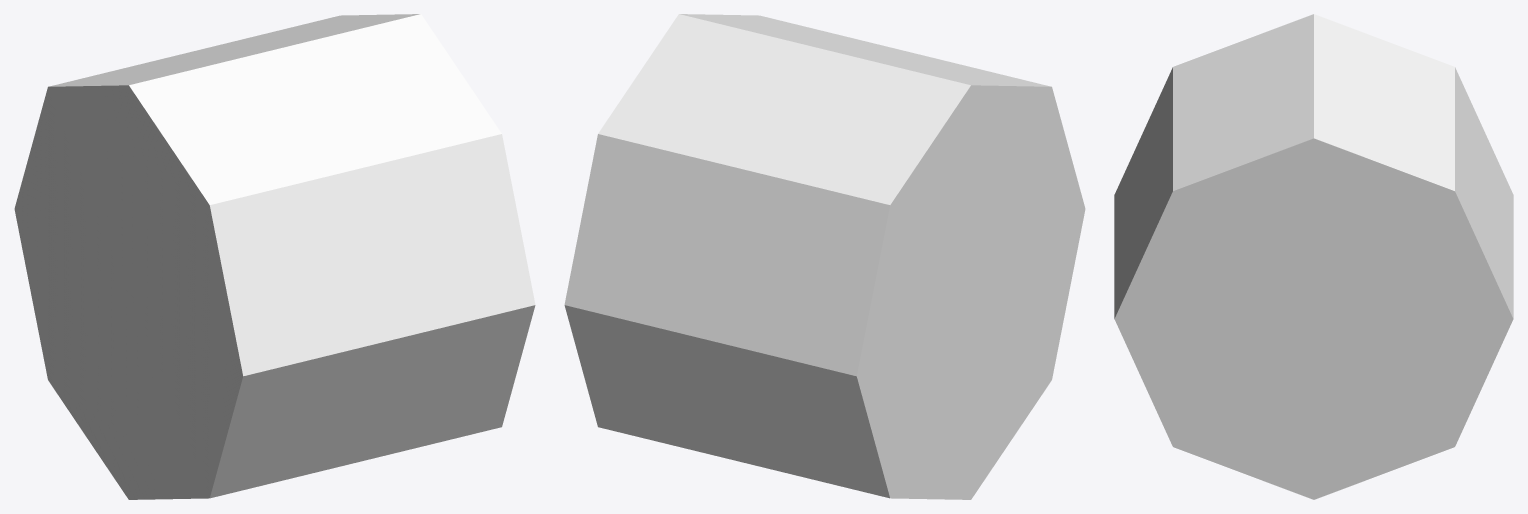
Rendered from button.obj.
3 renders of one model, left to right at view 1: azimuth 30°, elevation 25°; view 2: azimuth 150°, elevation 25°; view 3: azimuth 270°, elevation 25°, orthographic. The views are drawn at different scales.
Parts seen in each view (by area): view 1: buttons; view 2: buttons; view 3: buttons.
Part boxes in pixels (x1=…): buttons: x1=14, y1=14, x2=535, y2=499; buttons: x1=564, y1=14, x2=1085, y2=499; buttons: x1=1114, y1=14, x2=1513, y2=499.
Size of the model in its own units: 0.1195 by 0.162 by 0.162.
